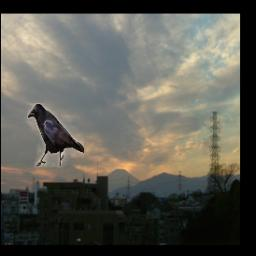Crow: (28, 104, 85, 168)
